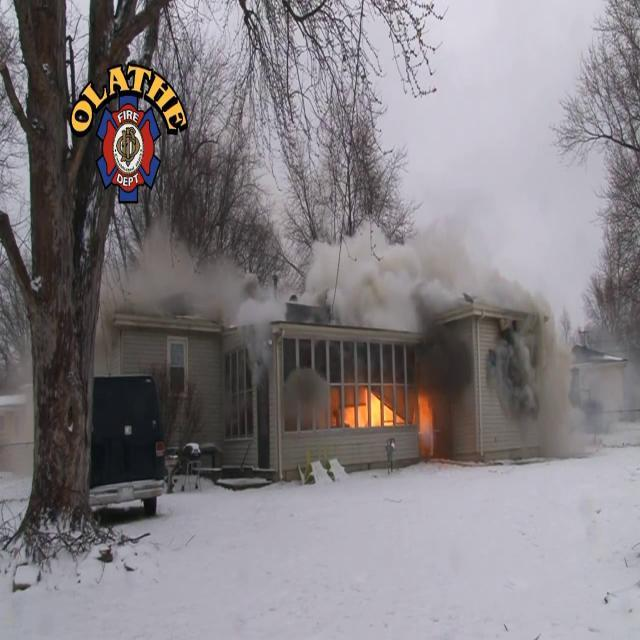Fire: (340, 377, 400, 430), (411, 380, 439, 448)
Smoke: (123, 186, 487, 378), (488, 264, 640, 458)
